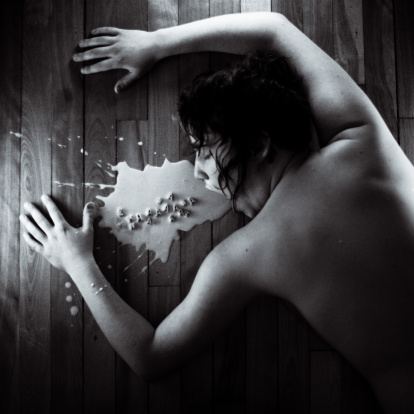deitado: (36, 0, 414, 400)
